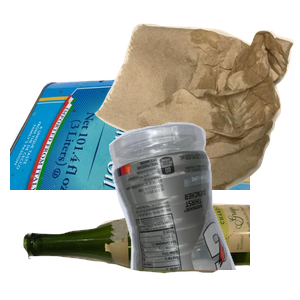glass: (21, 201, 261, 300)
metal: (10, 64, 250, 244)
plastic: (106, 120, 300, 300)
trash: (92, 21, 300, 201)
